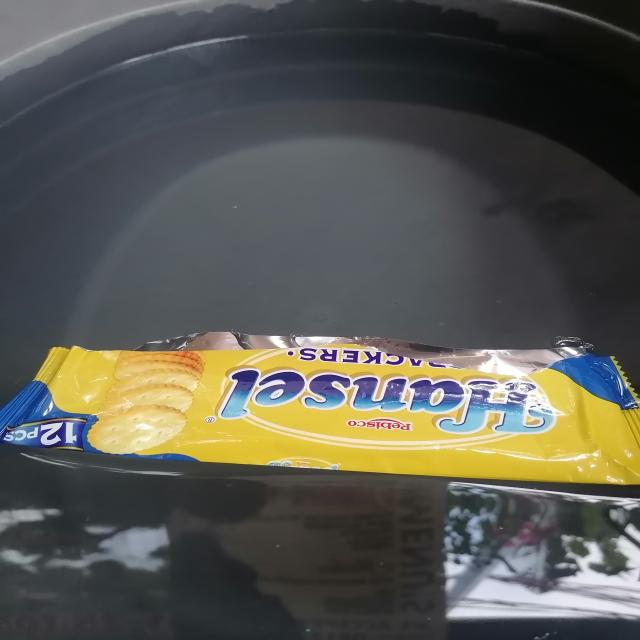Plastic Wrapper: (0, 332, 640, 485)
